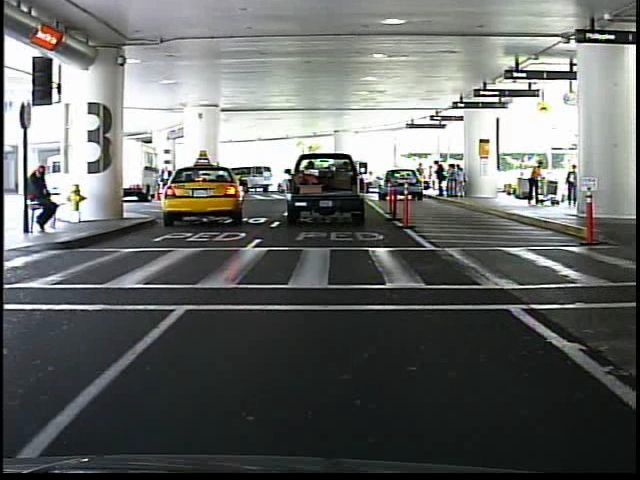person: (28, 160, 64, 231), (525, 157, 548, 210), (565, 161, 580, 208), (416, 161, 429, 193)
